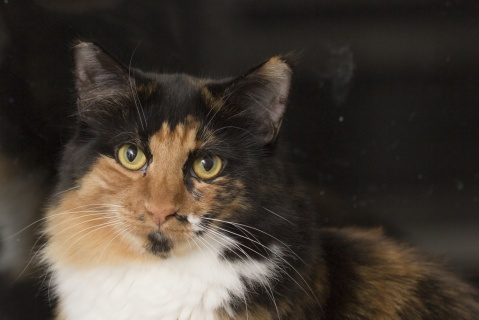Cat: (0, 34, 479, 319)
